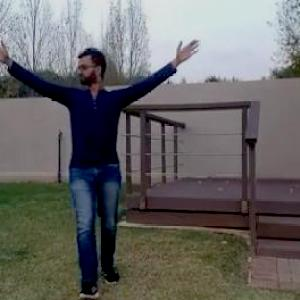takeoff: (0, 33, 205, 299)
